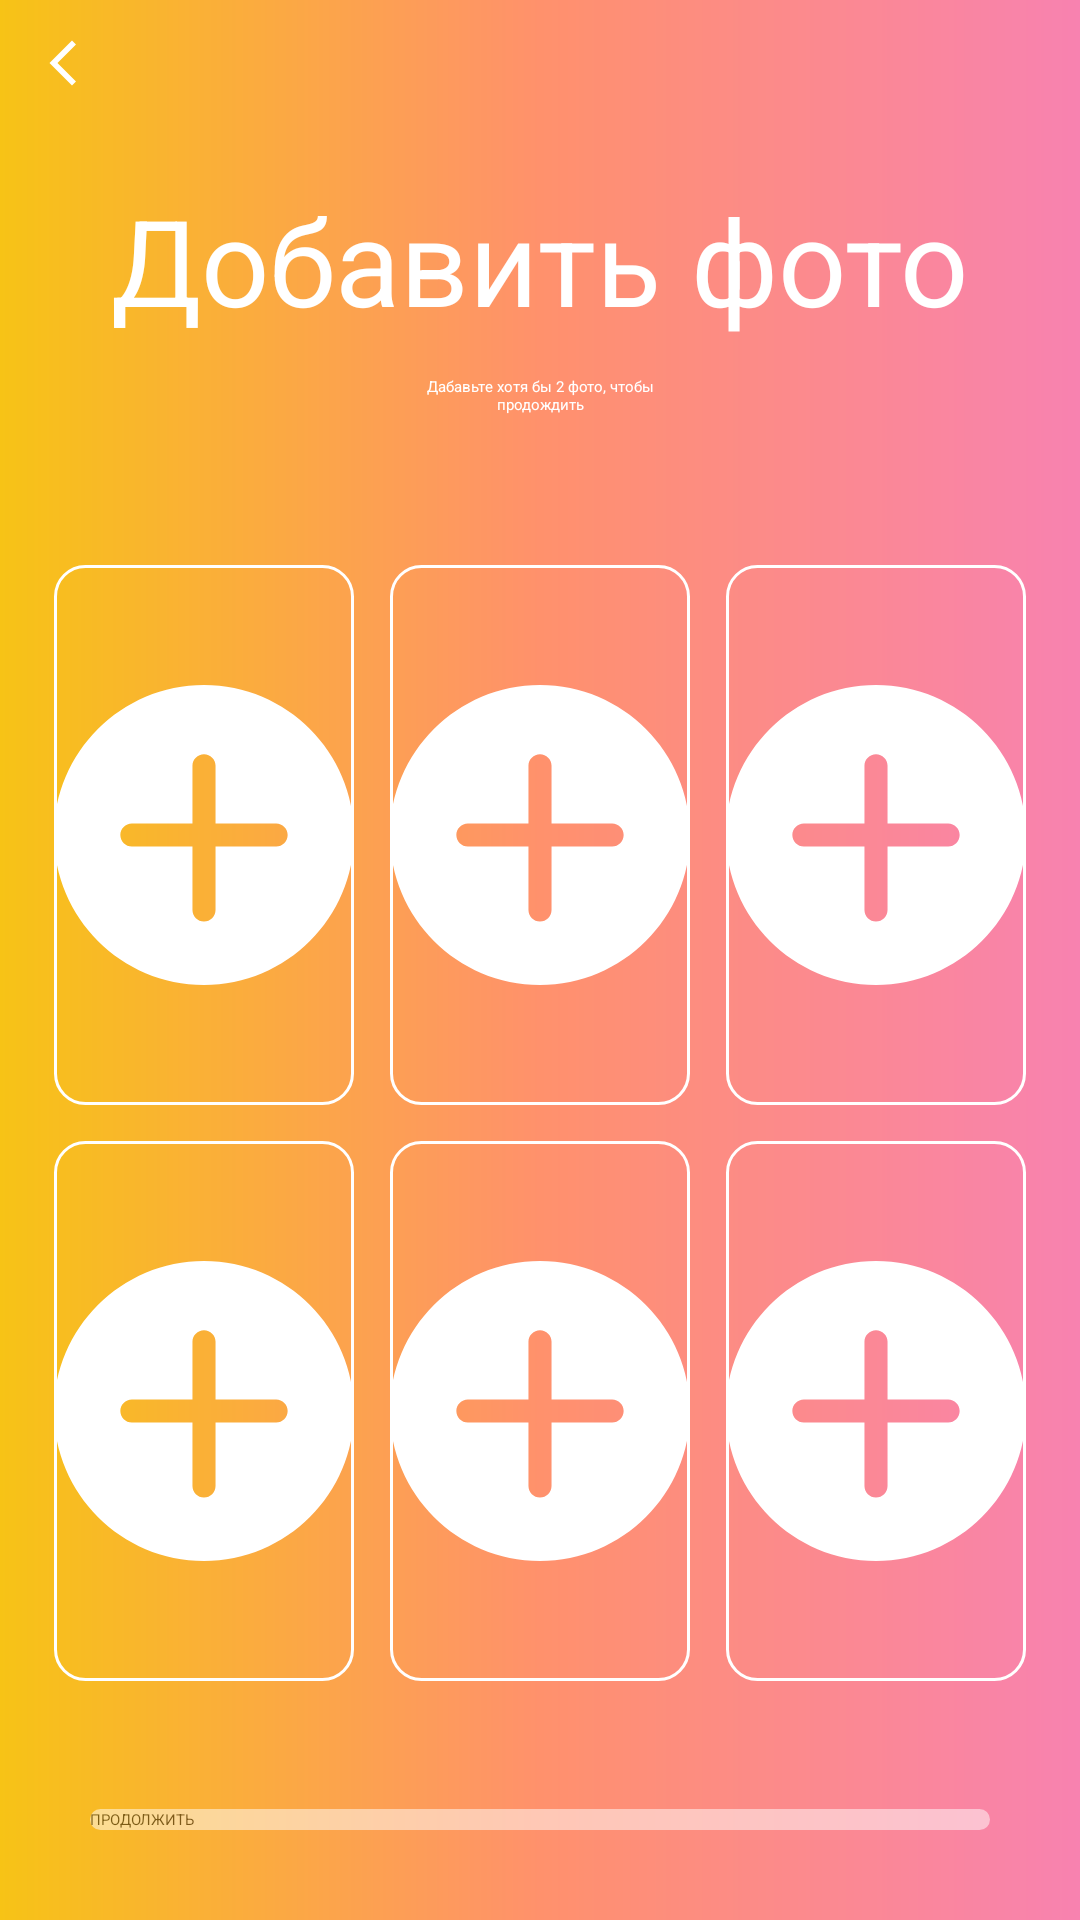

Where to tap for icons on this 1080w x 1920h app screen, as [x,y]:
back: [63,63]
